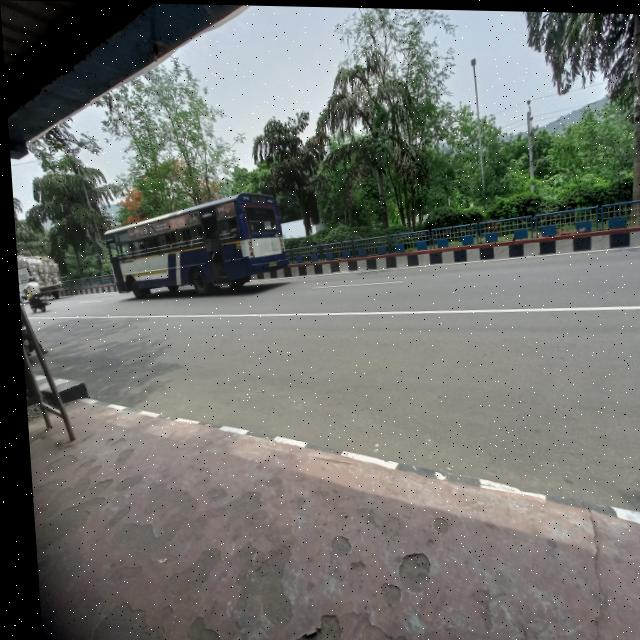bus: (90, 185, 300, 302)
